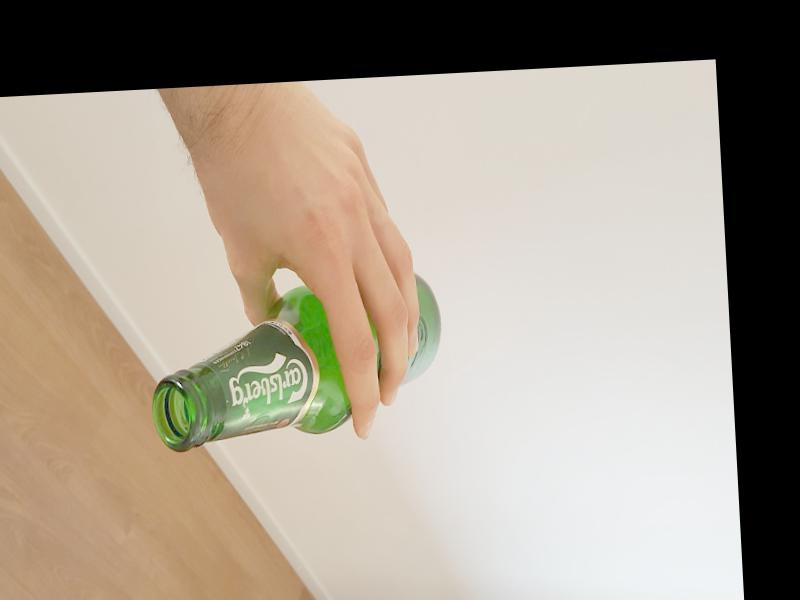Beer: (145, 278, 445, 452)
